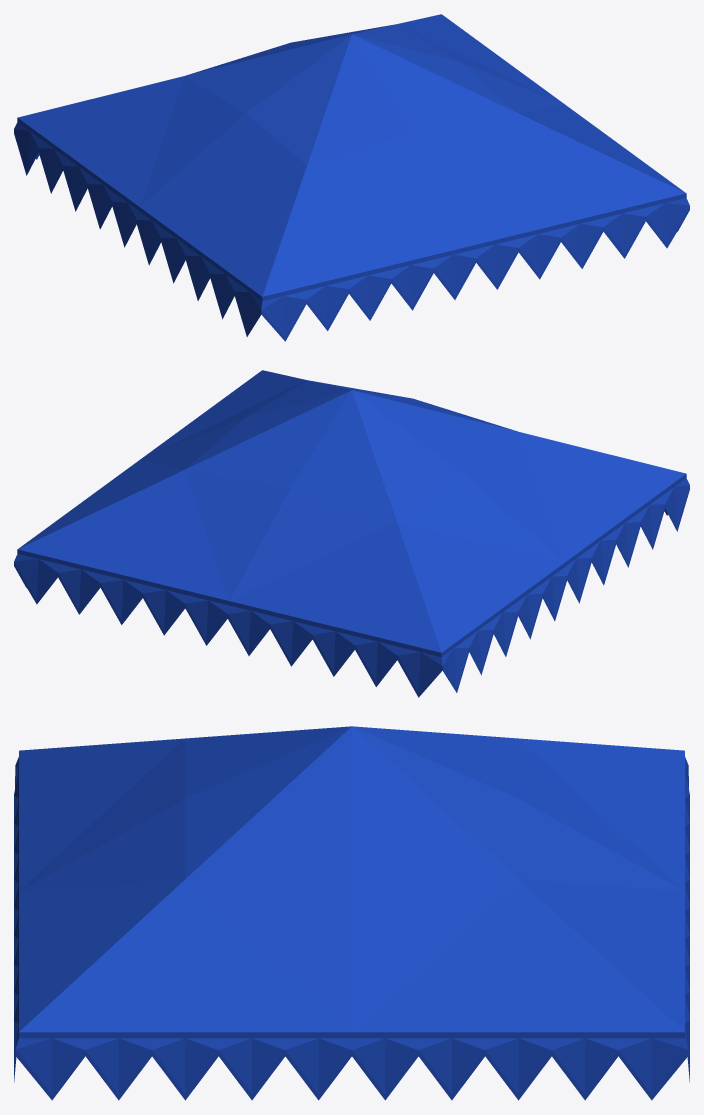
Rendered from SM_Stall_Canopy_Market_04.fbx.
3 renders of one model, top to bottom at view 1: azimuth 30°, elevation 25°; view 2: azimuth 150°, elevation 25°; view 3: azimuth 270°, elevation 25°, orthographic. The views are drawn at different scales.
Parts seen in each view (by area): view 1: SM_Stall_Canopy_Market_04; view 2: SM_Stall_Canopy_Market_04; view 3: SM_Stall_Canopy_Market_04.
Part boxes in pixels (x1,y1,x2,y2): SM_Stall_Canopy_Market_04: (14,14,689,341); SM_Stall_Canopy_Market_04: (14,370,689,697); SM_Stall_Canopy_Market_04: (14,726,689,1100).
Bounding box in the file's own units: 3.04 × 1.15 × 3.04.
Materials: 1 (1 with a texture image).
